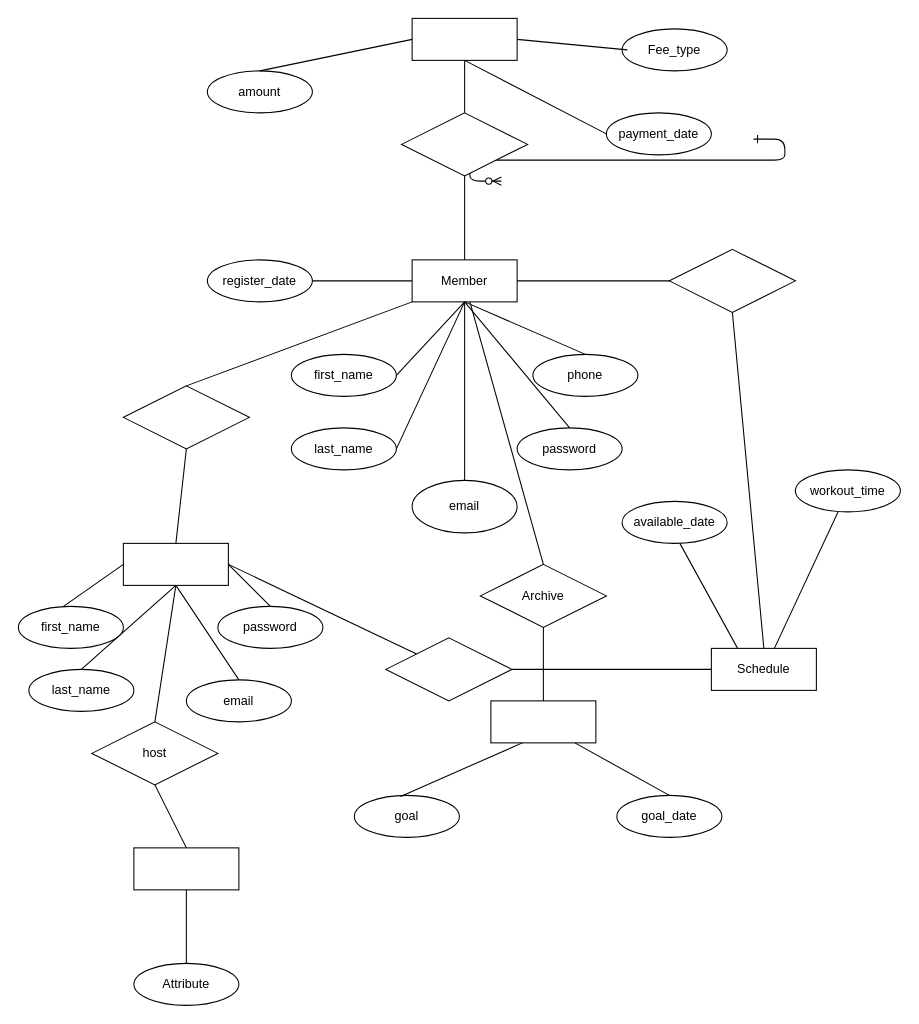
Some shapes in this 919 by 1024 pixel diagram are drawn without their labels. Here are the shapes that lost their labels. From the top down, the centre of each, then its label:
At (464,38): "Bill".
At (464,144): "Pays".
At (731,280): "follows".
At (185,417): "trains".
At (175,563): "Trainer".
At (448,669): "makes".
At (543,721): "FitnessGoal".
At (186,868): "Room".
